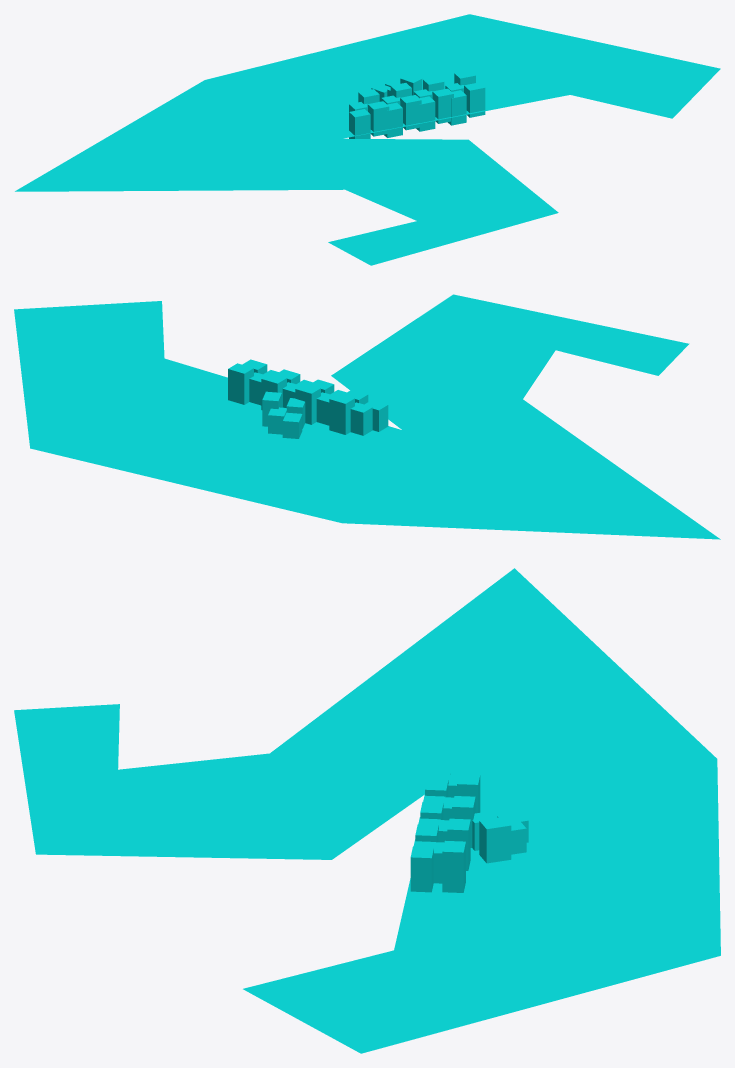
The model's file is blue.fbx.
The picture shows the model from 3 angles, top to bottom: view 1: azimuth 30°, elevation 25°; view 2: azimuth 150°, elevation 25°; view 3: azimuth 270°, elevation 25°; orthographic projection. The views are drawn at different scales.
Parts seen in each view (by area): view 1: polySurface8; view 2: polySurface8; view 3: polySurface8.
Part boxes in pixels (x1,y1,x2,y2): polySurface8: [15, 14, 720, 265]; polySurface8: [14, 294, 720, 539]; polySurface8: [14, 568, 720, 1053].
Size of the model in its own units: 266 by 15.29 by 164.
